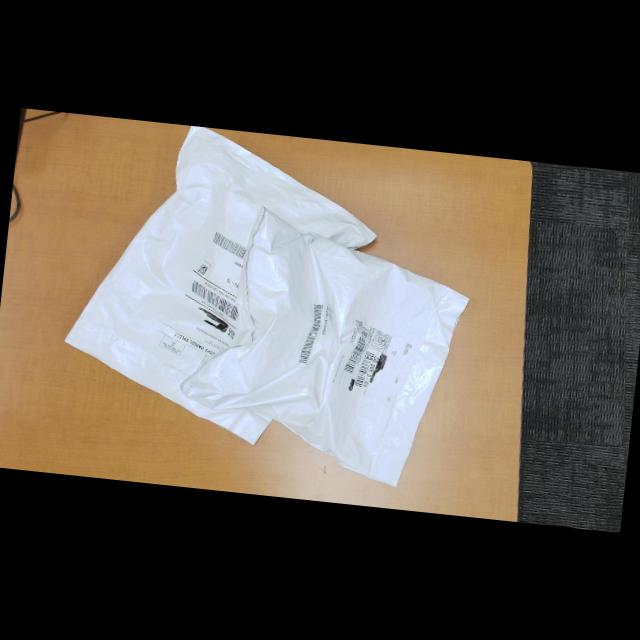mailer: (55, 116, 383, 456), (175, 209, 477, 493)
